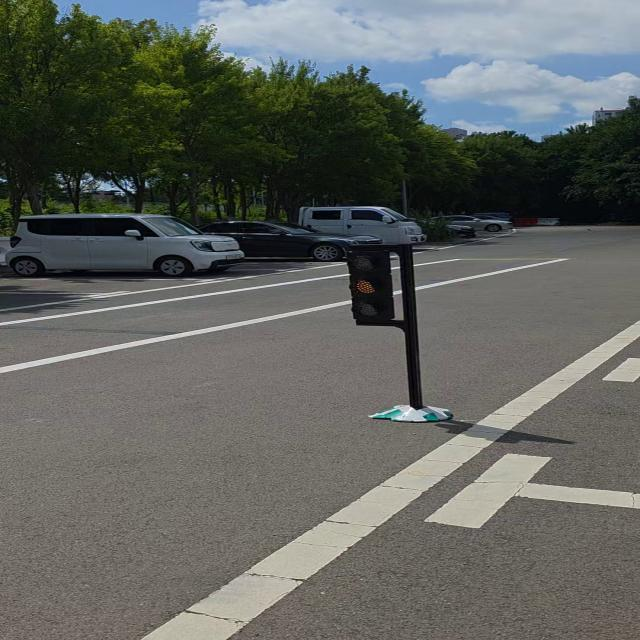yellow: (342, 242, 403, 330)
